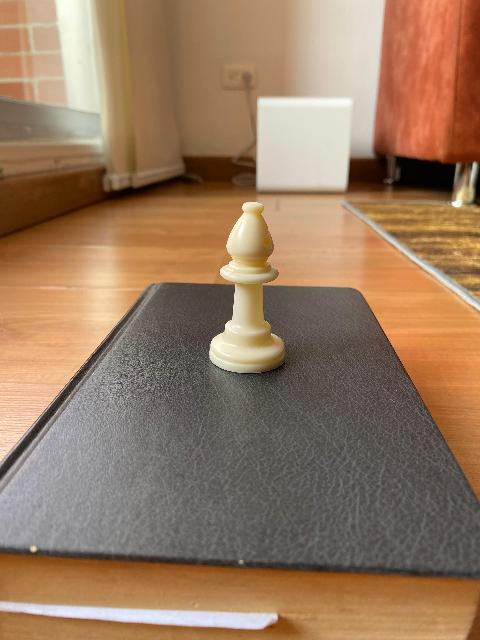white-bishop: (208, 200, 286, 374)
